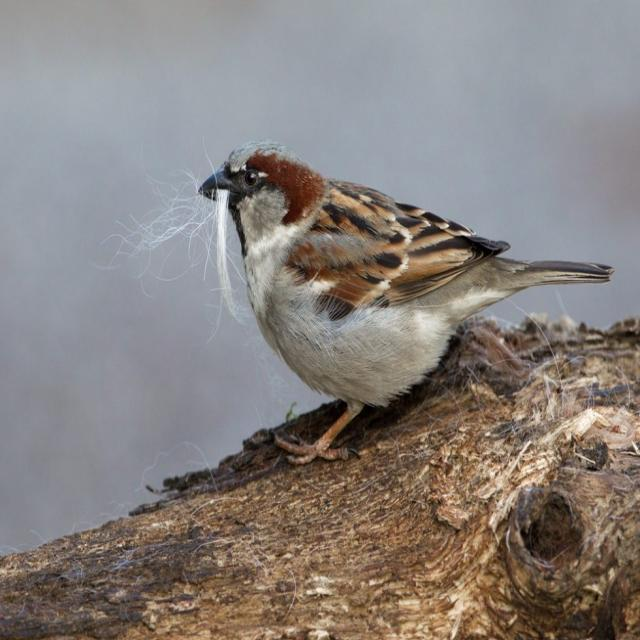bird: (190, 134, 620, 494)
